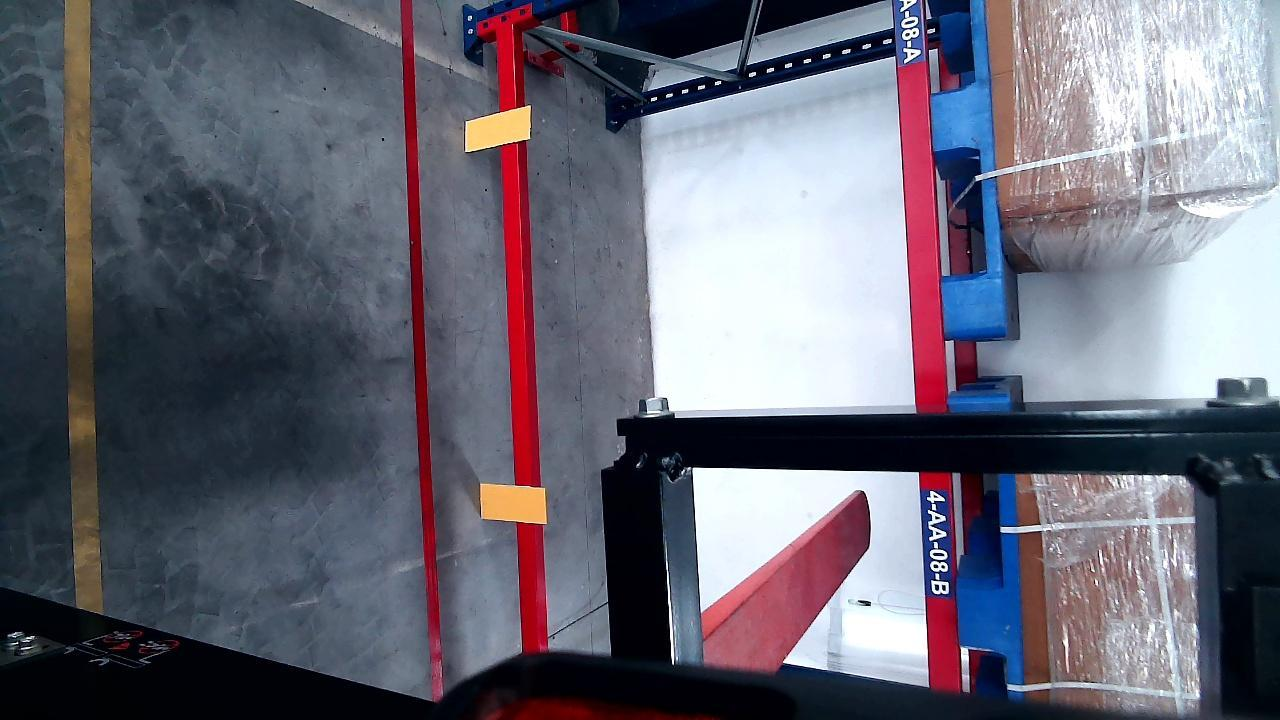red_line: (400, 0, 444, 701)
yellow_line: (64, 0, 104, 607)
